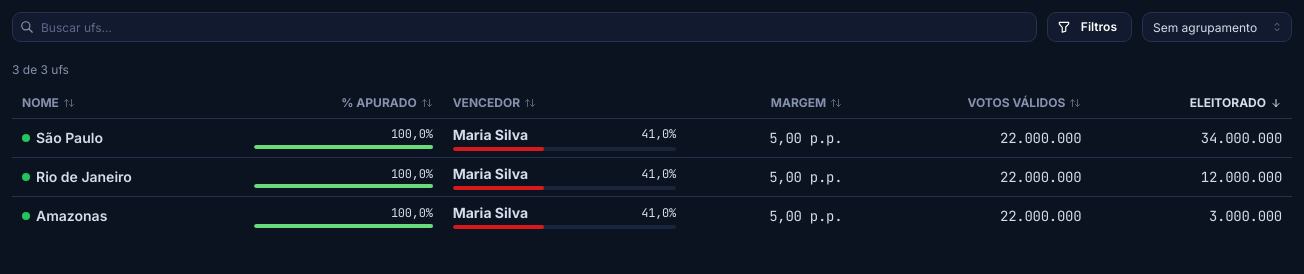
Test: geo area table › groups the rows by region, with the totals on each group
expect the text "São Paulo" is shown: met, box [36,128,103,148]
Click the field named "Agrupamento". click: {"x": 1217, "y": 27}
box: [1142,12,1292,42]
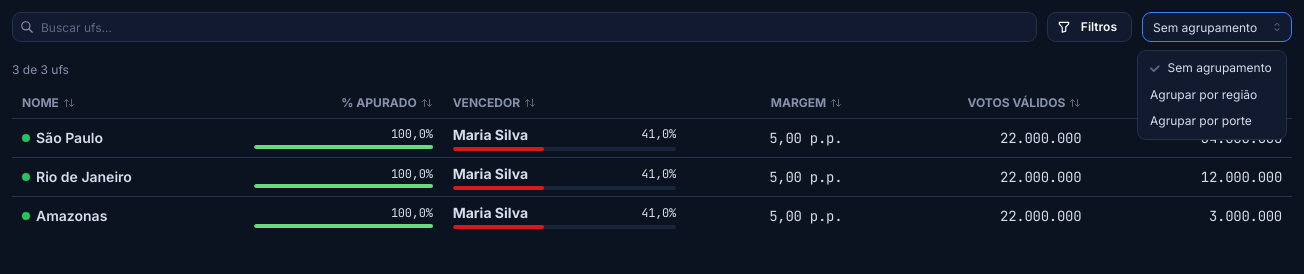
Click the option "Agrupar por região". click: {"x": 1204, "y": 94}
box: [1150,87,1257,102]
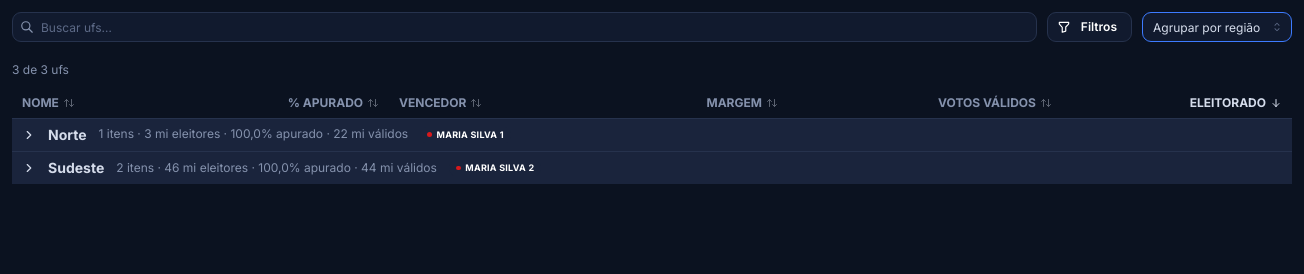
expect the text "2 itens · 46 mi eleitores · 100,0% apurado · 44 mi válidos" is shown: met, box [116,160,437,176]
Click the text "Sudeste". click: {"x": 76, "y": 168}
box: [48,158,104,178]
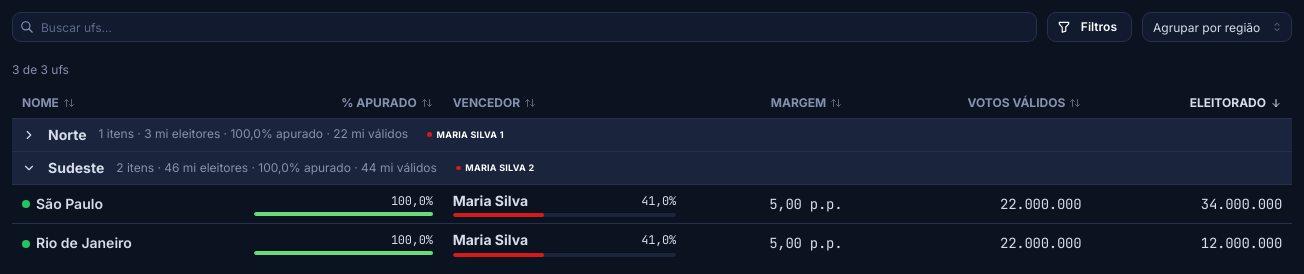
expect the text "São Paulo" is shown: met, box [36,194,103,214]
